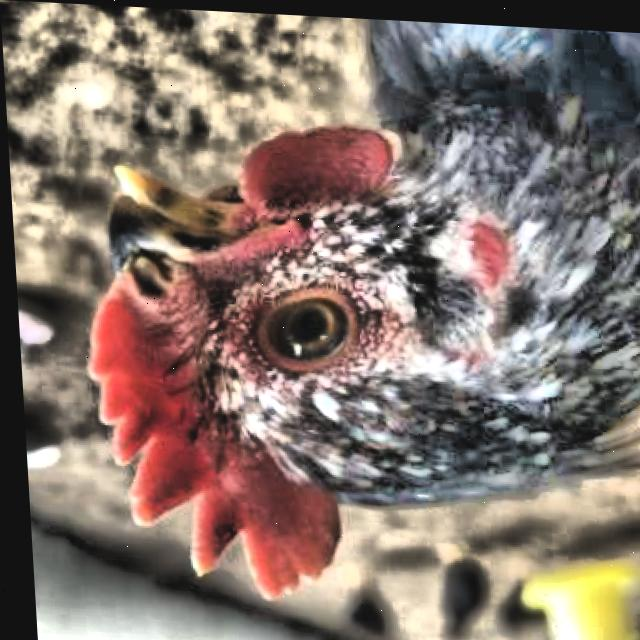Healthy: (235, 259, 375, 382)
